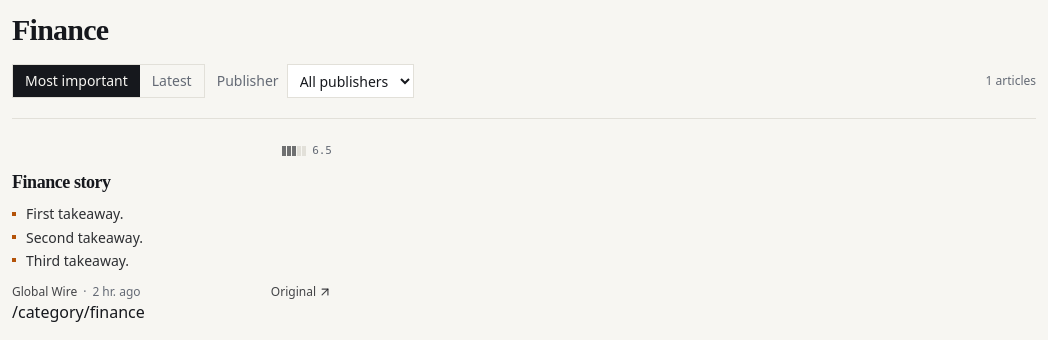
CategoryPage › filters by sort and publisher via the URL
The image size is (1048, 340).
Later steps or results of the test are not shown.
expect the heading "Finance story" is shown: met, box [12,172,111,192]
Click the radio button labelled "Latest" at (172, 81), box [140,65,204,97]
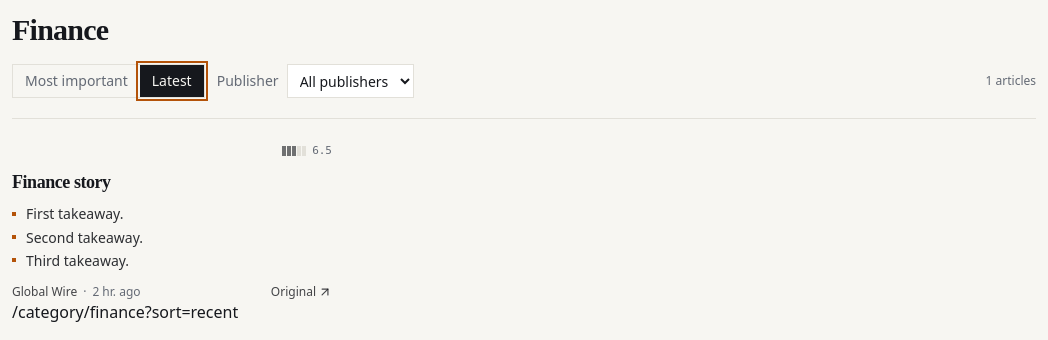
expect the heading "Finance story" is shown: met, box [12,172,111,192]
expect the text with test id "location" reads "/category/finance?sort=recent": met, box [12,301,238,323]
